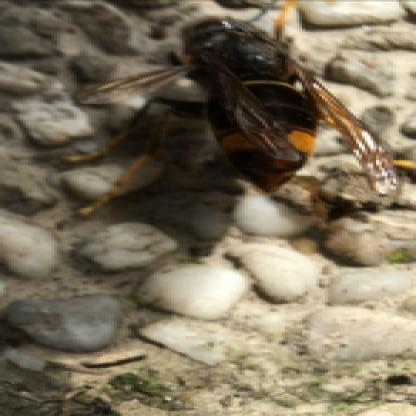Asian Hornet: (44, 3, 402, 220)
